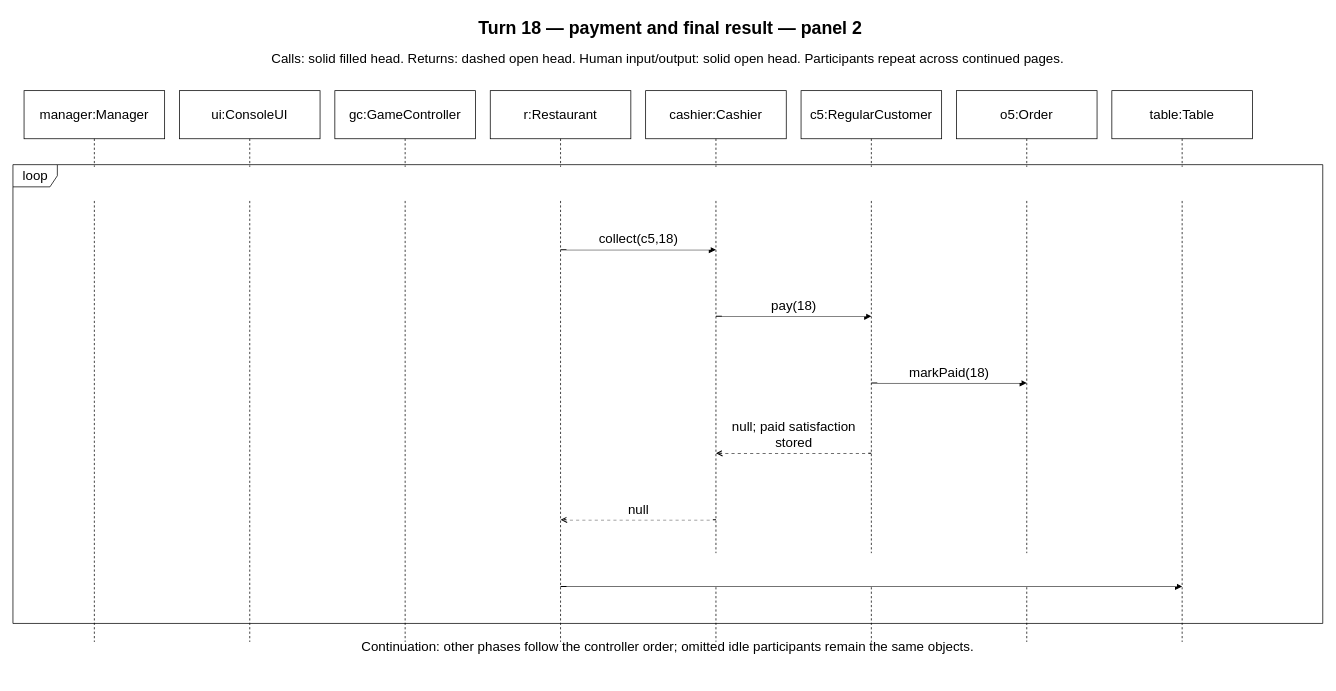
Some shapes in this 1336 by 691 pixel diagram are drawn without their labels. The centre of each missing label's shape, as x and y in pixels:
[for turn = 1..18; detail: turn 18, then exit loop] [continued]: point (699, 183)
release(): point (871, 569)
